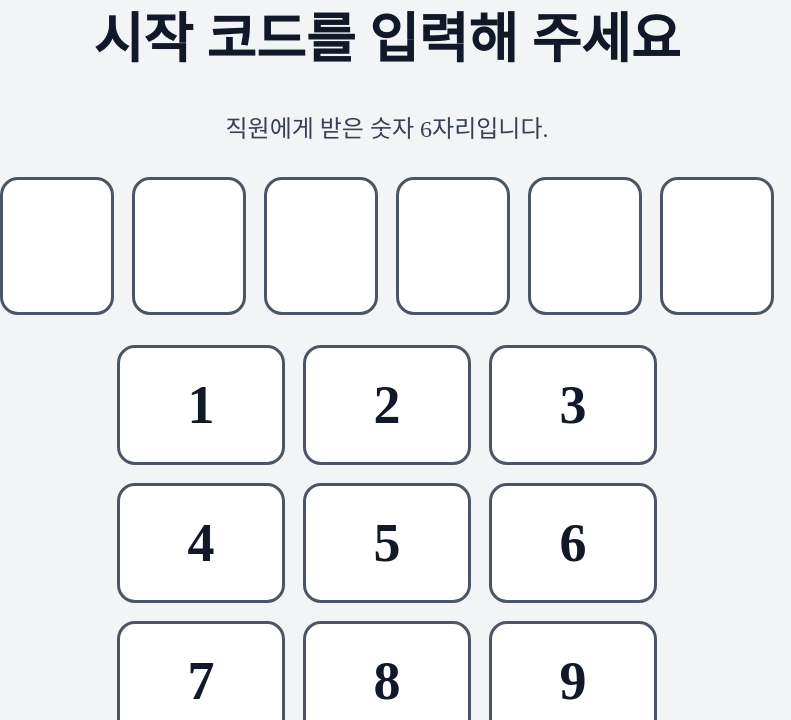
Test: StartView 시작 코드 키패드 › 지움과 모두 지움
Click the button "1": x=201, y=405 [117,345,285,465]
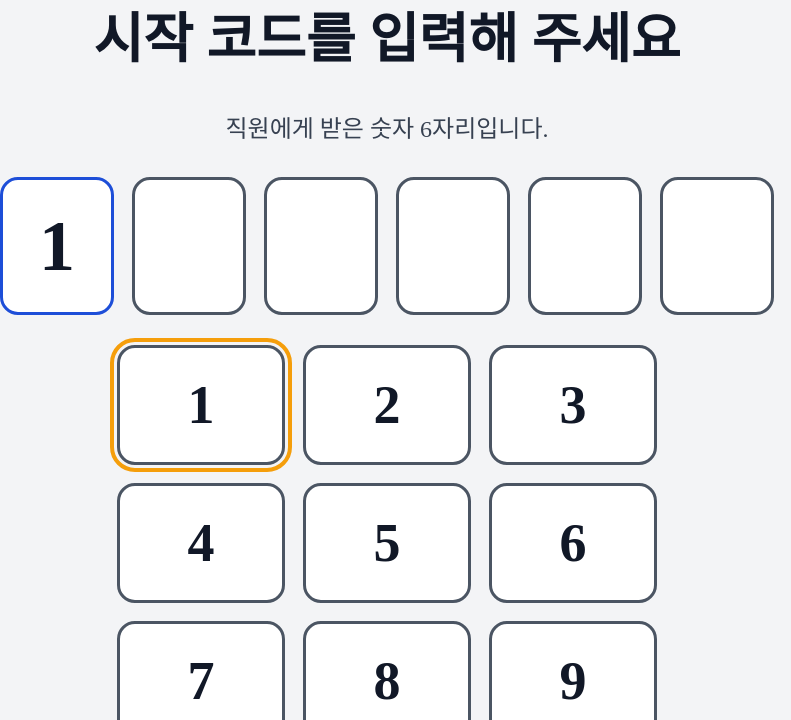
Click the button "2": x=387, y=405 [303,345,471,465]
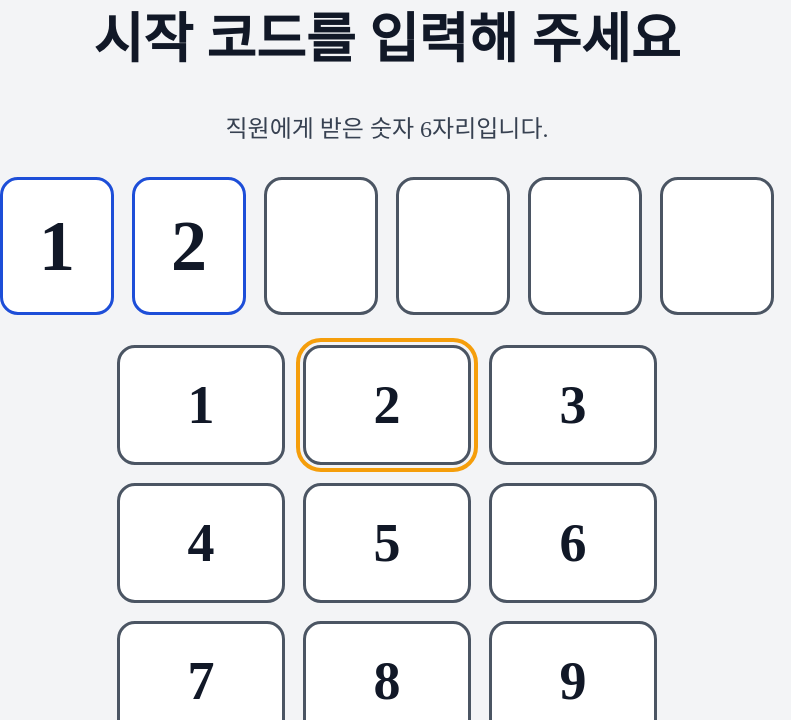
Click the button "3": x=573, y=405 [489,345,657,465]
(page scrolled)
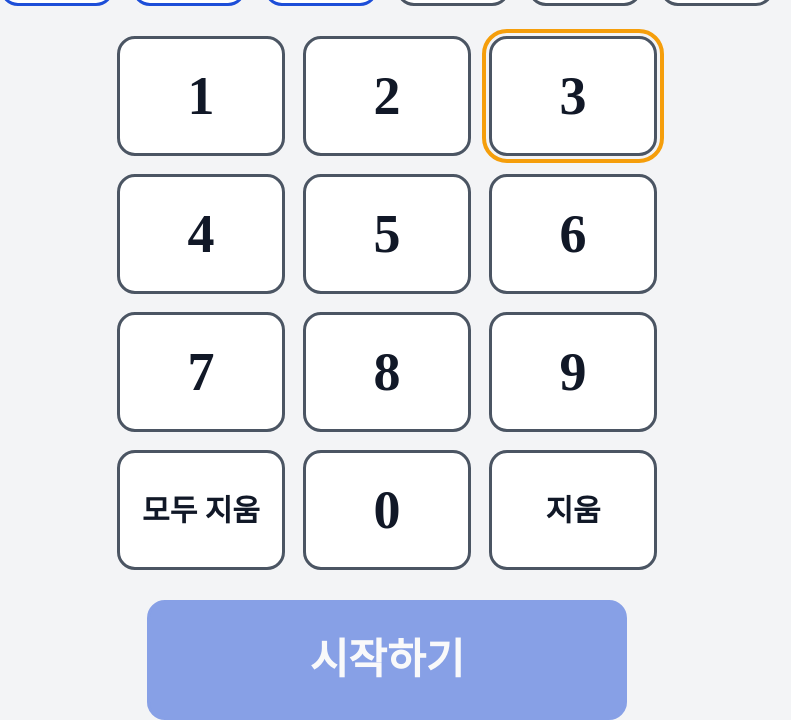
Click the button "지움": x=573, y=510 [489,450,657,570]
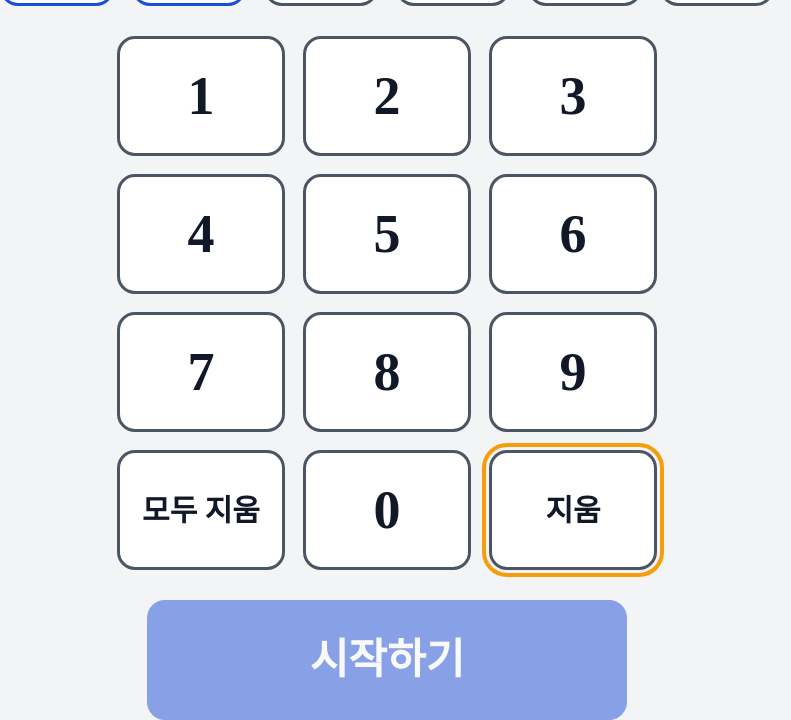
Click the button "모두 지움": x=201, y=510 [117,450,285,570]
(page scrolled)
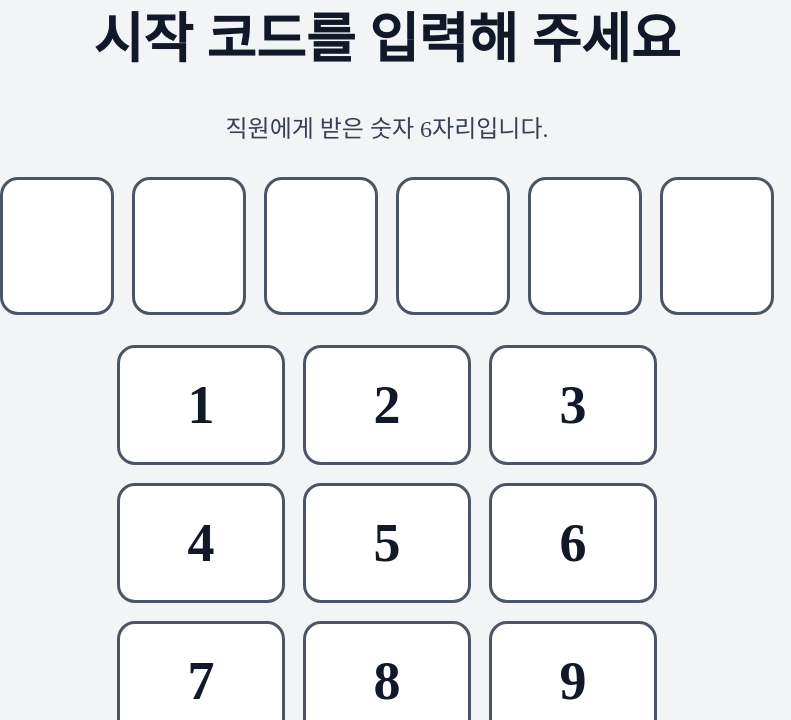
Expected: the element named "0자리 입력함" is shown, [0,177,774,315]
